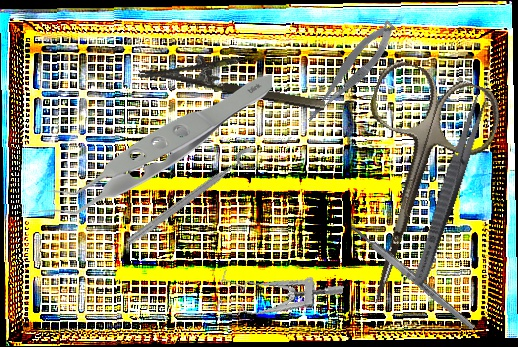Dressing Forceps: (409, 88, 491, 289)
Fixation Ring: (123, 144, 264, 256)
Iris Scissors: (312, 56, 508, 322)
Micro Scissor: (293, 17, 406, 127)
Needle Holder: (137, 39, 331, 114)
Scalpel Handle: (348, 222, 477, 333)
Speculum: (214, 259, 345, 337)
Tissue Forceps: (38, 71, 272, 216)
